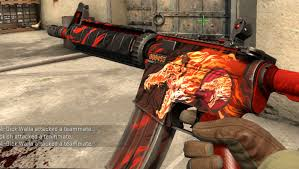gun: (45, 2, 298, 168)
